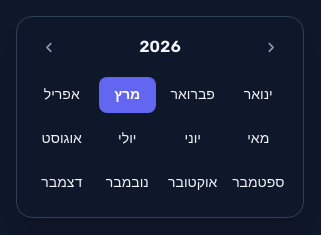
MonthPicker › navigates to the previous year when clicking שנה קודמת
Click the button named "שנה קודמת" at (271, 47), box x1=255 y1=33 x2=287 y2=61
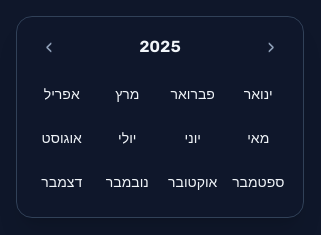
Check: the text "2025" is shown, box x1=139 y1=35 x2=181 y2=59
